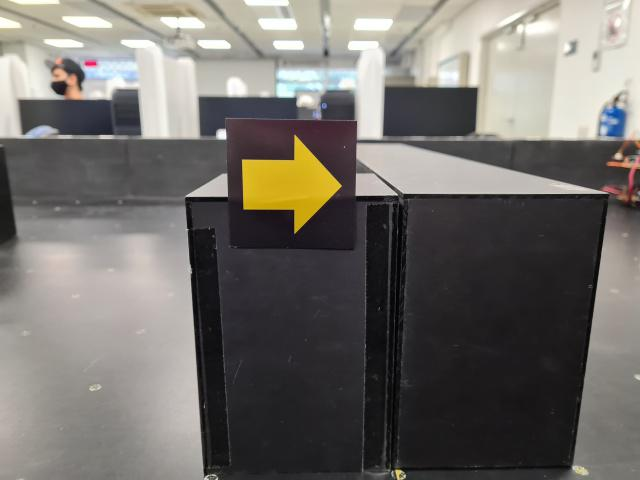right: (224, 116, 358, 251)
